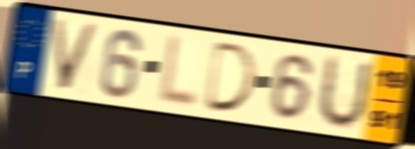6: (98, 25, 144, 100), (271, 52, 319, 122)
D: (201, 39, 260, 115)
L: (155, 32, 201, 112)
U: (314, 52, 375, 132)
V: (48, 16, 103, 93)
